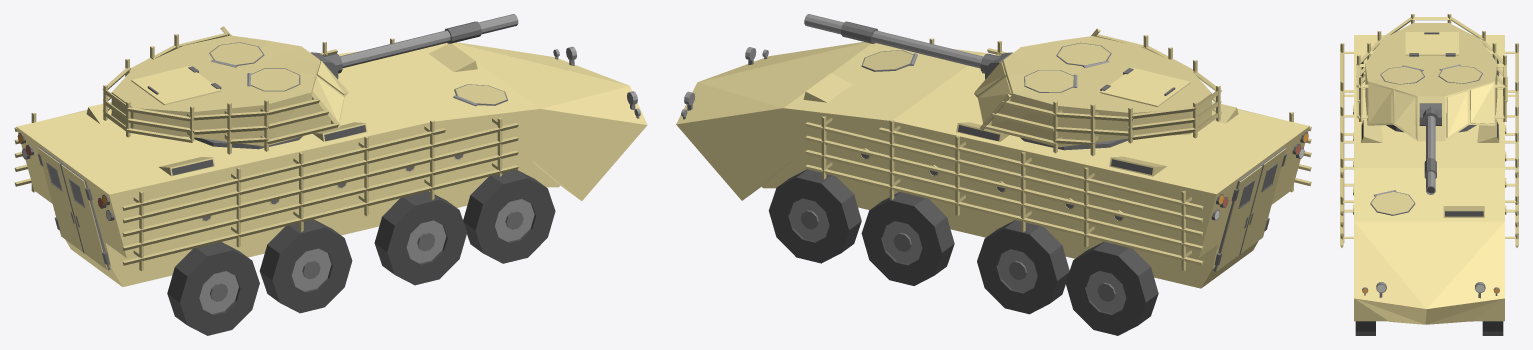
Rendered from kar8.fbx.
3 renders of one model, left to right at view 1: azimuth 30°, elevation 25°; view 2: azimuth 150°, elevation 25°; view 3: azimuth 270°, elevation 25°, orthographic. The views are drawn at different scales.
Parts seen in each view (by area): view 1: Boole_7, Cylinder_9, Cylinder_8, Cylinder_5, Cylinder_6, Cylinder_7, Cylinder_30; view 2: Boole_7, Cylinder_9, Cylinder_1, Cylinder_4, Cylinder_3, Cylinder_2, Cylinder_30; view 3: Boole_7, Cylinder_9, Cylinder_30, Cylinder_4, Cylinder_5.
Boxes of the visible parts, bbox=[...] form: Boole_7: bbox=[14, 38, 647, 286]; Cylinder_9: bbox=[102, 26, 348, 154]; Cylinder_8: bbox=[167, 242, 259, 335]; Cylinder_5: bbox=[463, 170, 555, 263]; Cylinder_6: bbox=[374, 191, 467, 285]; Cylinder_7: bbox=[259, 219, 352, 313]; Cylinder_30: bbox=[310, 14, 518, 79]; Boole_7: bbox=[676, 38, 1311, 288]; Cylinder_9: bbox=[974, 28, 1221, 155]; Cylinder_1: bbox=[1065, 241, 1158, 335]; Cylinder_4: bbox=[768, 169, 861, 263]; Cylinder_3: bbox=[861, 192, 954, 285]; Cylinder_2: bbox=[977, 220, 1069, 314]; Cylinder_30: bbox=[804, 14, 1012, 79]; Boole_7: bbox=[1340, 35, 1518, 324]; Cylinder_9: bbox=[1356, 14, 1507, 141]; Cylinder_30: bbox=[1419, 103, 1441, 194]; Cylinder_4: bbox=[1482, 321, 1503, 335]; Cylinder_5: bbox=[1355, 321, 1375, 335].
Size of the model in its own units: 778 by 287 by 262.
